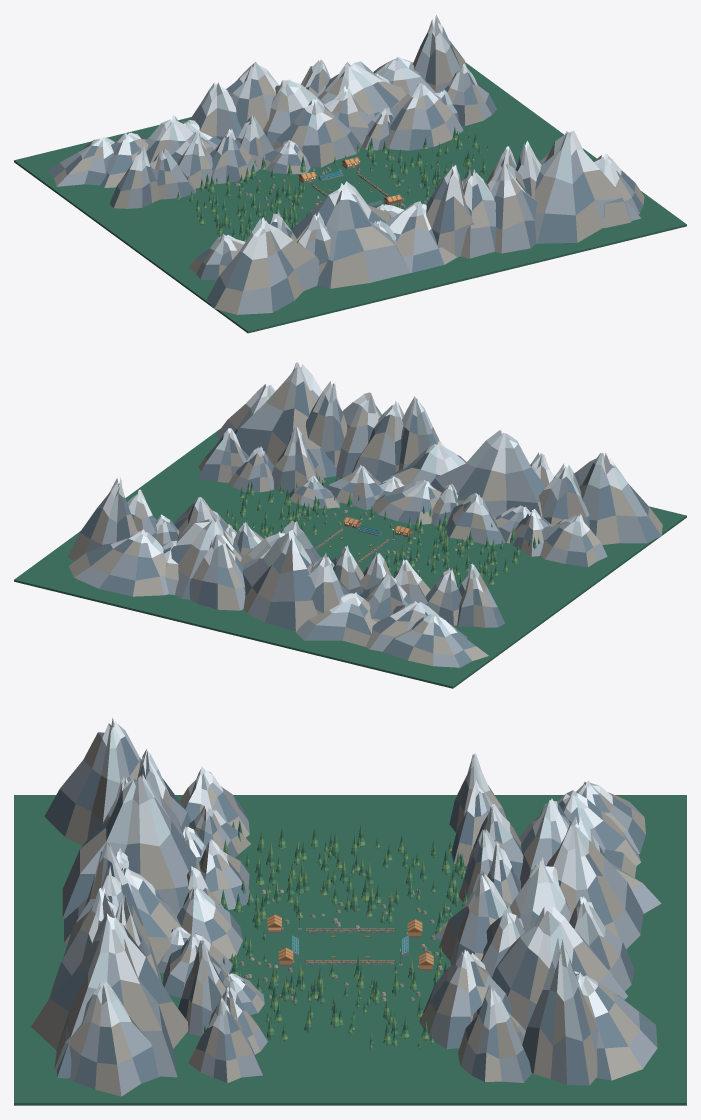
File: alpine-arena.glb
3 renders of one model, top to bottom at view 1: azimuth 30°, elevation 25°; view 2: azimuth 150°, elevation 25°; view 3: azimuth 270°, elevation 25°, orthographic. The views are drawn at different scales.
Visible parts, largest first — view 1: forest, scree, mountain, granite, snow, ice, pine, fern, stone; view 2: forest, mountain, granite, scree, snow, ice, pine, fern; view 3: forest, granite, mountain, scree, snow, ice, pine, fern, stone, wood, cedar.
Part boxes in pixels (box(x1,y1,x2,y2)): forest: box(14, 62, 686, 333); scree: box(54, 46, 644, 314); mountain: box(57, 26, 641, 314); granite: box(47, 32, 643, 312); snow: box(81, 15, 621, 259); ice: box(78, 15, 604, 254); pine: box(177, 127, 488, 239); fern: box(176, 132, 487, 241); stone: box(234, 156, 428, 211); forest: box(14, 428, 686, 688); mountain: box(74, 390, 647, 667); granite: box(80, 381, 661, 667); scree: box(68, 381, 662, 665); snow: box(103, 362, 627, 635); ice: box(109, 364, 627, 637); pine: box(225, 481, 539, 589); fern: box(226, 476, 535, 618); forest: box(14, 795, 686, 1105); granite: box(44, 736, 657, 1089); mountain: box(50, 738, 661, 1096); scree: box(31, 733, 650, 1096); snow: box(80, 717, 612, 1029); ice: box(88, 724, 605, 1033); pine: box(204, 821, 467, 1048); fern: box(204, 837, 466, 1047); stone: box(239, 888, 453, 1000); wood: box(232, 846, 463, 1049); cedar: box(267, 914, 433, 968).
Bounding box in the file's own units: 262 × 51.85 × 240.
